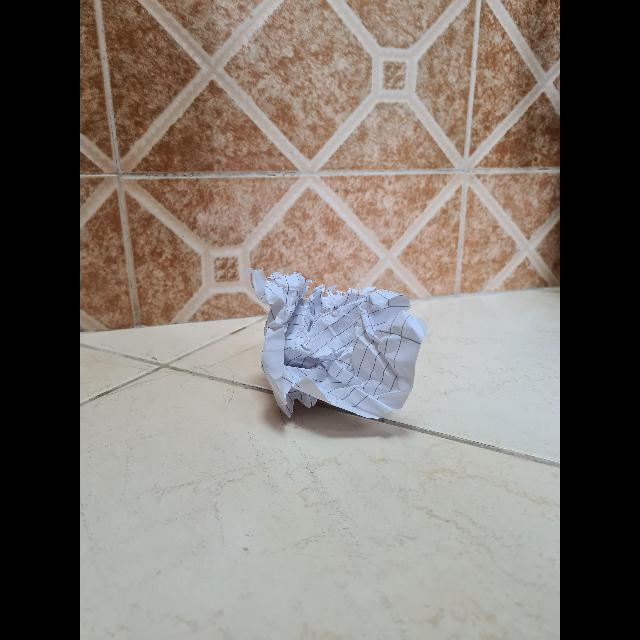trash: (245, 276, 431, 436)
